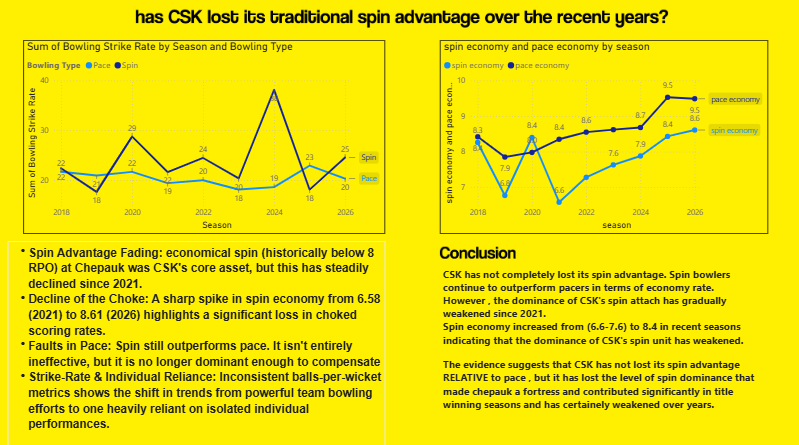

Layout of this report page (visuals, bound fields, positions):
{"tool":"powerbi","page":{"name":"Page 7","canvas":[1280,720],"ordinal":6},"visuals":[{"type":"image","box":[341.7,0,661.7,71.7],"z":0},{"type":"textbox","box":[26.7,83.3,411.7,235],"z":1},{"type":"textbox","box":[28.3,360,411.7,233.3],"z":2},{"type":"textbox","box":[973.3,83.3,306.7,261.7],"z":3},{"type":"textbox","box":[478.3,83.3,466.7,615],"z":4},{"type":"textbox","box":[973.3,360,306.7,336.7],"z":5}]}

Visuals, with their boxes in screenshot pixels (x1, y1, x2, y2), scaled from the page's 1280x720 canvas onto the 799x445 screenshot:
image: box(213, 0, 626, 44)
textbox: box(17, 51, 274, 197)
textbox: box(18, 222, 275, 367)
textbox: box(608, 51, 798, 213)
textbox: box(299, 51, 590, 432)
textbox: box(608, 222, 798, 431)
